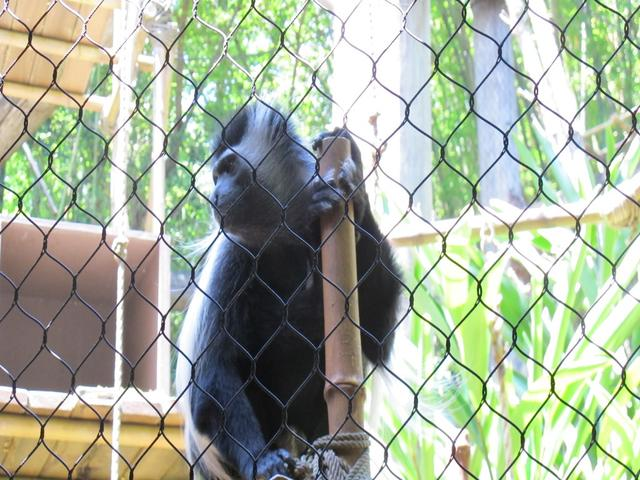monkey: (171, 106, 473, 480)
